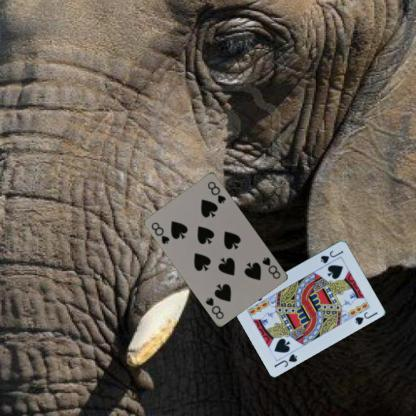8s: (259, 254, 282, 280), (149, 219, 171, 245)
Js: (318, 247, 345, 265), (272, 351, 298, 369)
